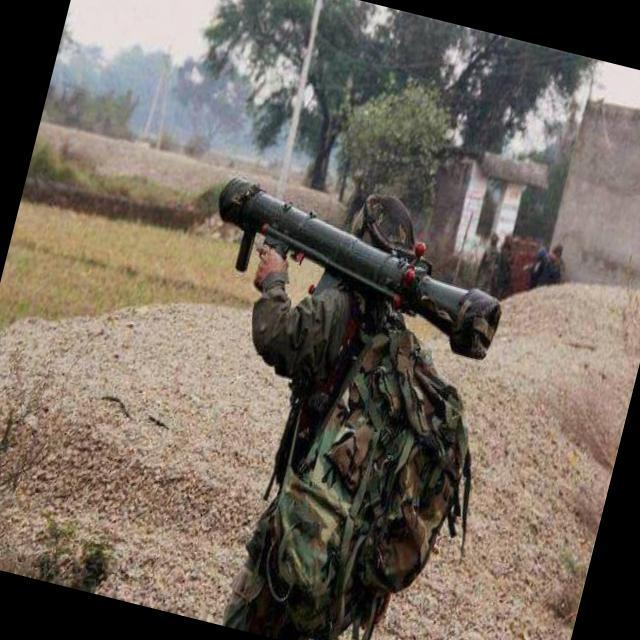rocket: (196, 167, 520, 366)
